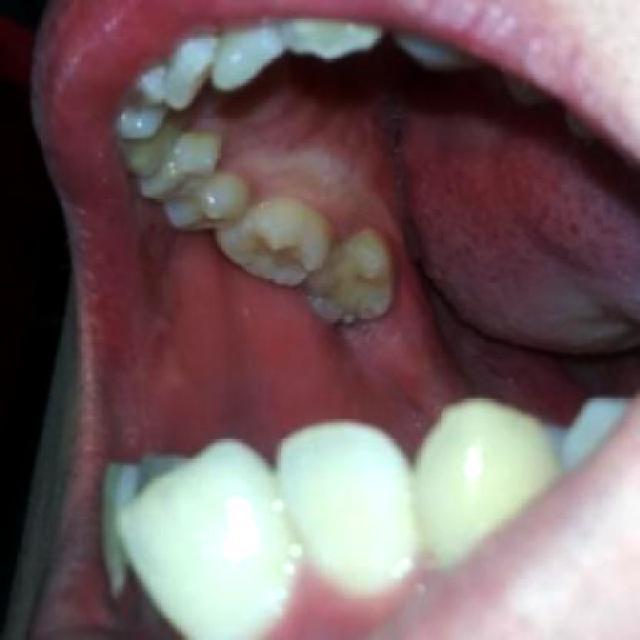Plaque: (247, 234, 298, 275)
